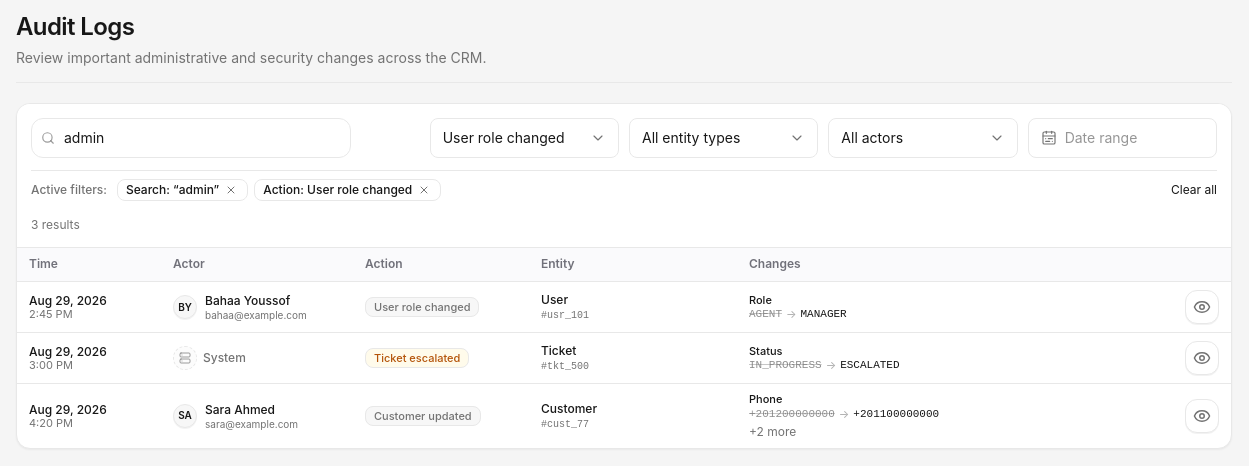
Test: AuditLogPage › renders active filter chips and handles filter clearing
The width and height of the screenshot is (1249, 466).
Expected: the text "Active filters:" is shown, [31,182,107,198]
Expected: the text "Search: “admin”" is shown, [126,182,219,198]
Click the button "Clear all" at coordinates (1194, 190), box [1171,182,1217,198]
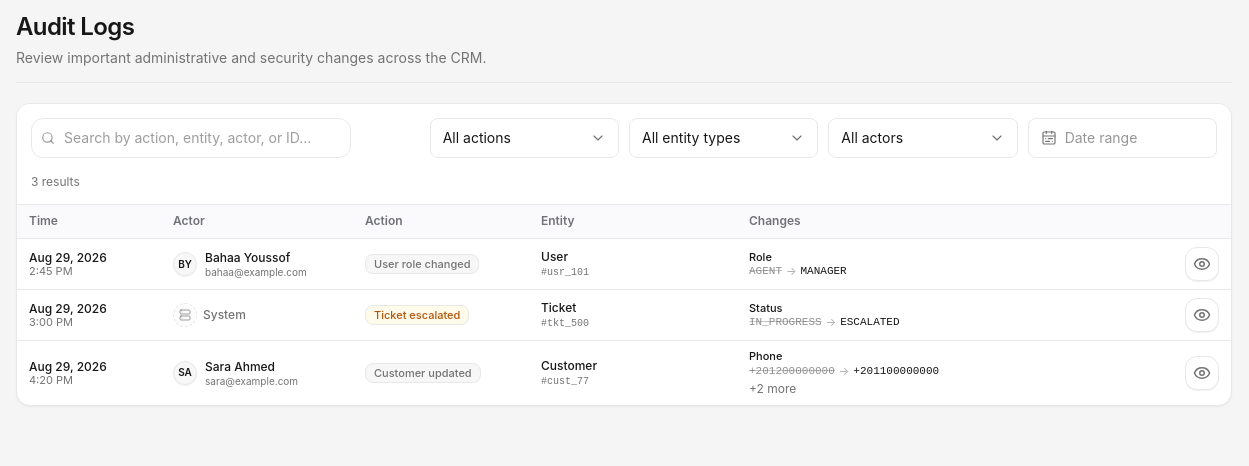
Expected: the text "Active filters:" is gone
